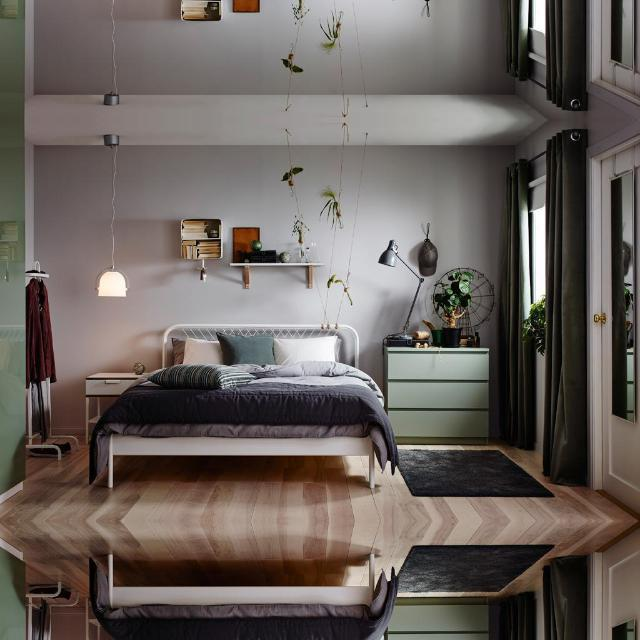bed: (89, 324, 398, 487), (89, 555, 398, 640)
curtain: (542, 128, 588, 485), (500, 158, 534, 448), (546, 0, 588, 110), (542, 556, 588, 640), (501, 0, 529, 80)
dresser: (384, 346, 488, 444), (385, 598, 488, 640)
lamp: (96, 133, 129, 296), (379, 239, 424, 340), (104, 0, 120, 105)
rug: (399, 545, 554, 593), (399, 449, 554, 496)
